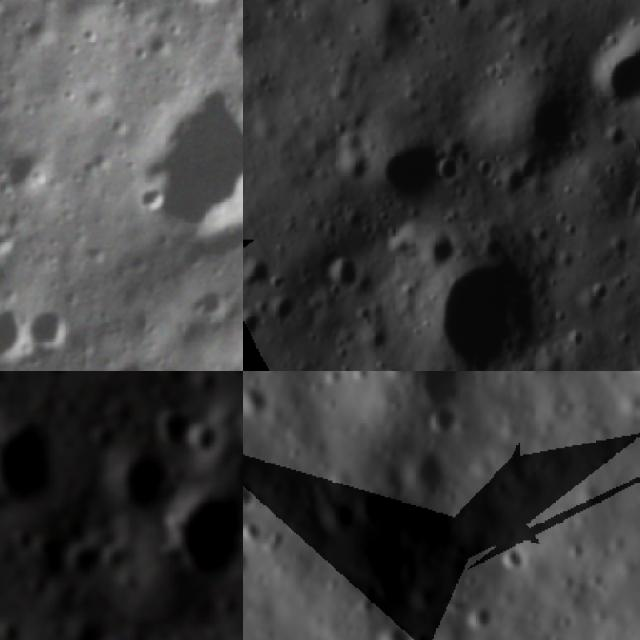crater: (115, 52, 243, 257), (405, 239, 545, 371), (474, 68, 583, 200), (173, 482, 243, 582), (370, 139, 442, 216), (0, 416, 60, 508), (110, 442, 180, 520), (588, 18, 640, 120), (0, 123, 67, 196), (25, 287, 91, 358), (0, 288, 36, 370), (0, 190, 30, 269), (152, 404, 198, 453), (66, 532, 111, 576), (188, 416, 223, 461), (493, 536, 532, 571), (422, 407, 458, 440), (367, 0, 411, 16), (243, 484, 264, 511), (243, 519, 265, 542)
